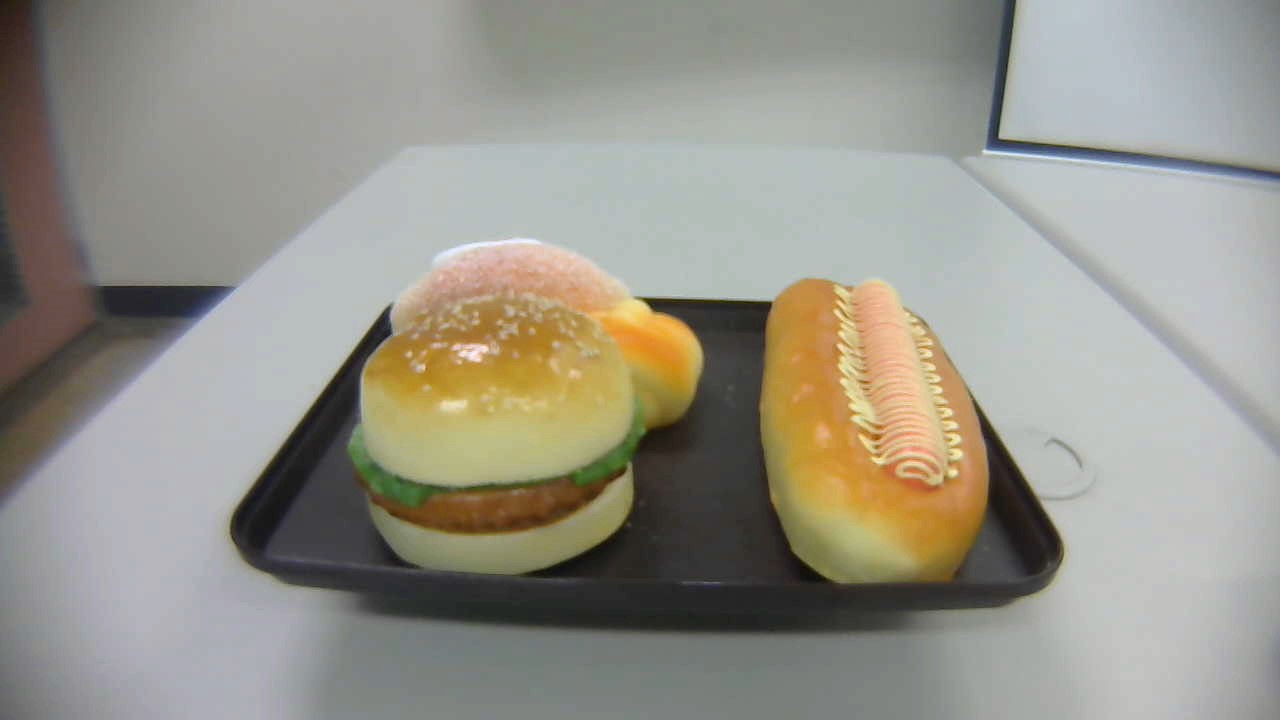coconut: (390, 237, 632, 358)
hamburger: (350, 293, 637, 577)
hot dog: (758, 278, 989, 588)
twist bread: (570, 295, 705, 429)
